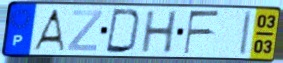A: (30, 8, 67, 53)
D: (104, 8, 144, 56)
F: (182, 9, 222, 56)
H: (141, 9, 179, 54)
I: (238, 10, 253, 57)
Z: (66, 9, 104, 53)
